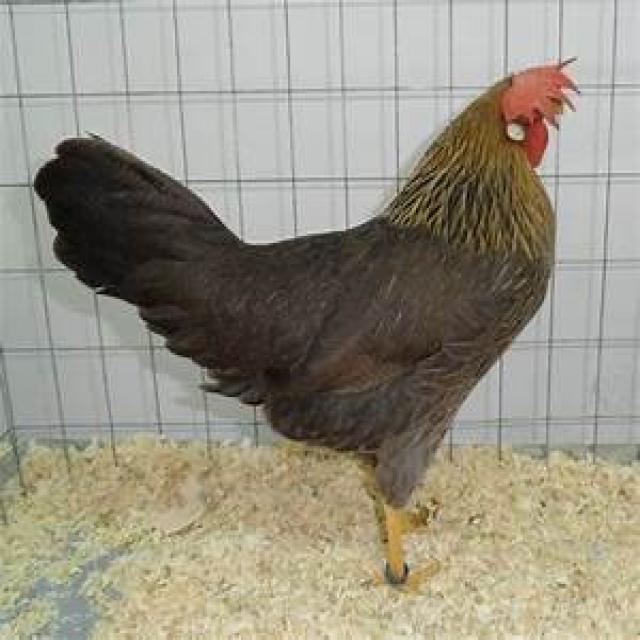hen: (32, 58, 582, 586)
